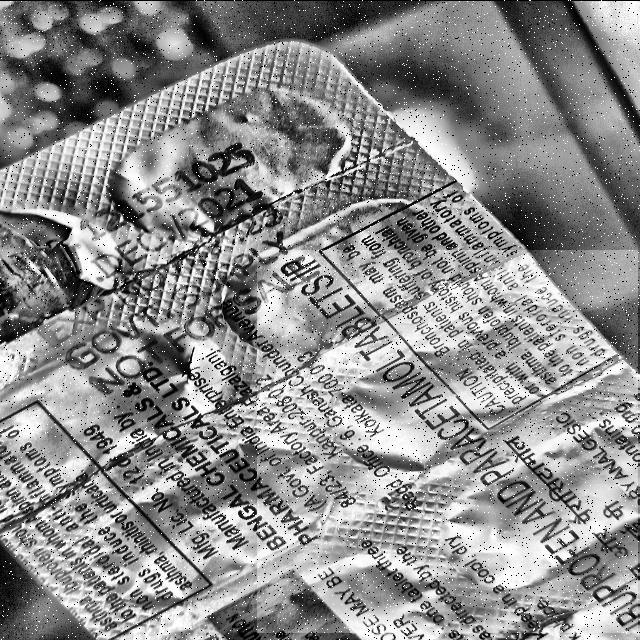IBUPROFEN AND PARACETAMOL TABLETS: (257, 249, 639, 632)
